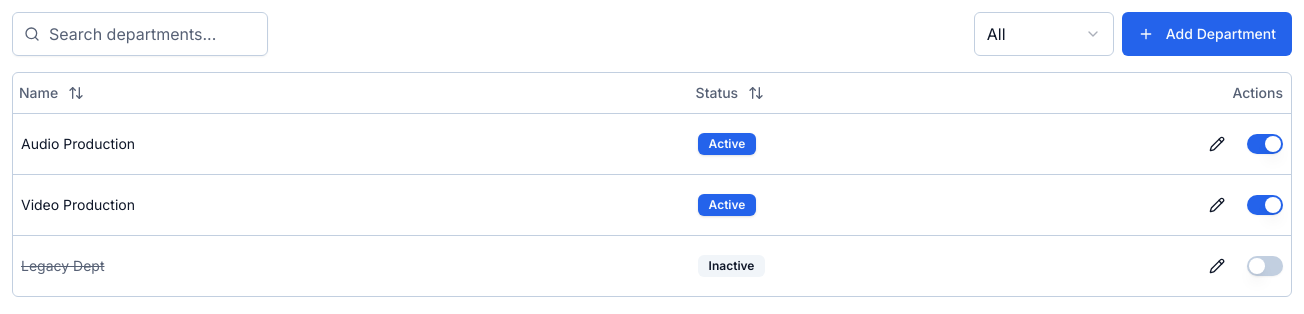
Test: DepartmentsListClient › Search Filtering › filters departments by search term
Type "Audio" into the field with placeholder "Search departments...". click: (140, 34)
box: [12,12,268,56]
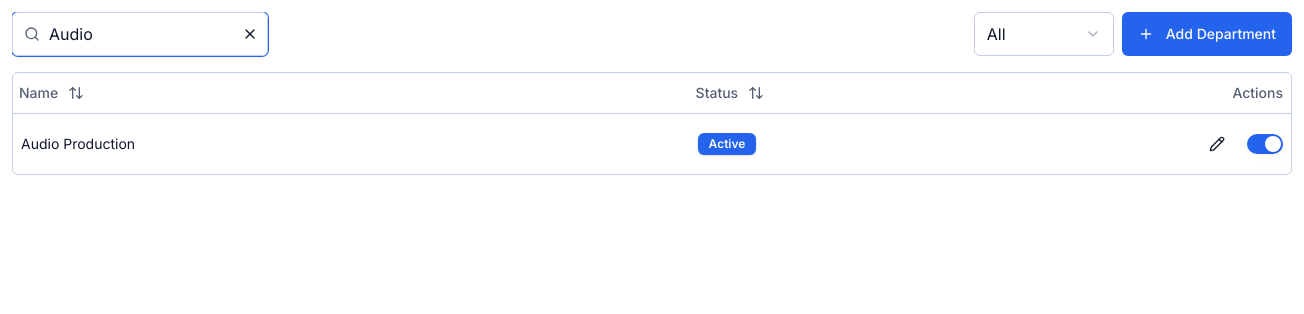
Expected: the text "Audio Production" is shown, [21,134,135,152]
Expected: the number of rows is 2, [13,73,1291,113]; [13,113,1291,174]
